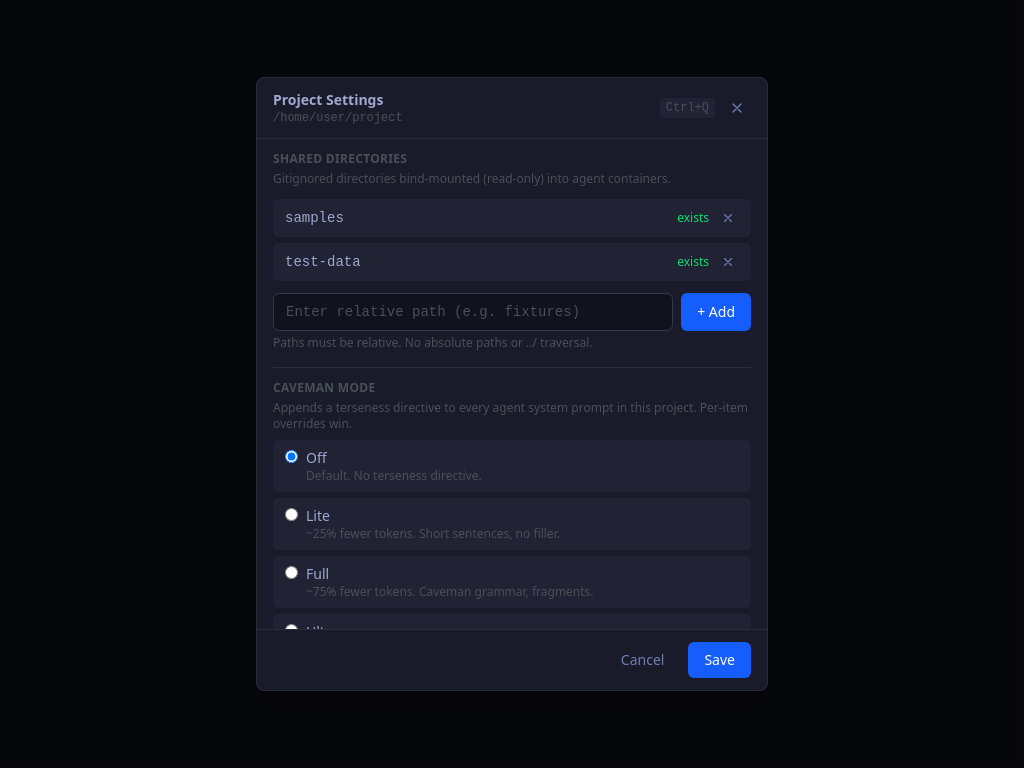
Test case: ProjectConfigDialog › remove button removes entry from list
This screenshot has width=1024, height=768.
Expected: the element with test id "shared-dir-samples" is shown, [273,199,751,237]
Click the button with test id "remove-dir-samples" at x=728, y=218, box [717,207,739,229]
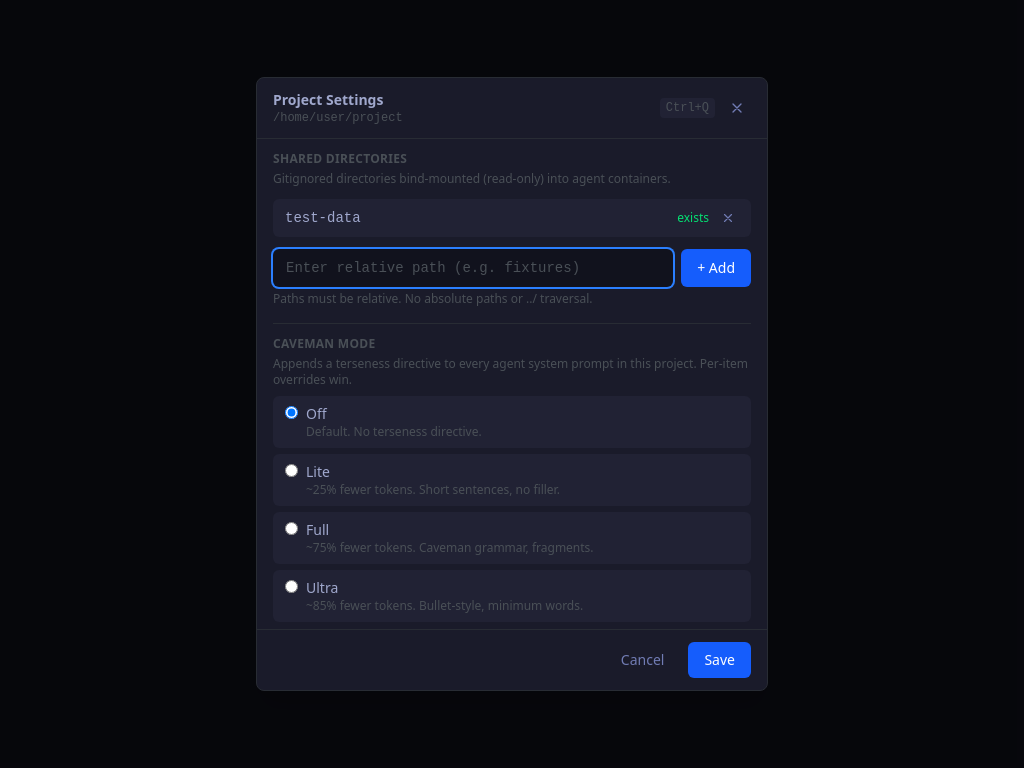
Expected: the element with test id "shared-dir-test-data" is shown, [273,199,751,237]
Now the element with test id "shared-dir-samples" is gone
